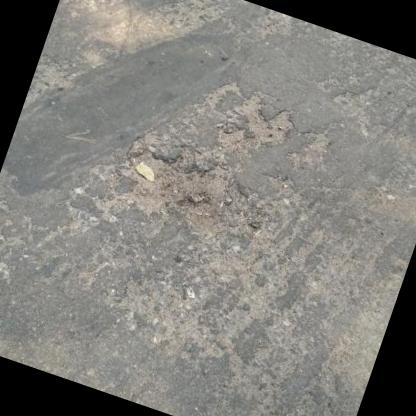pothole: (103, 127, 266, 251), (193, 76, 302, 170)
